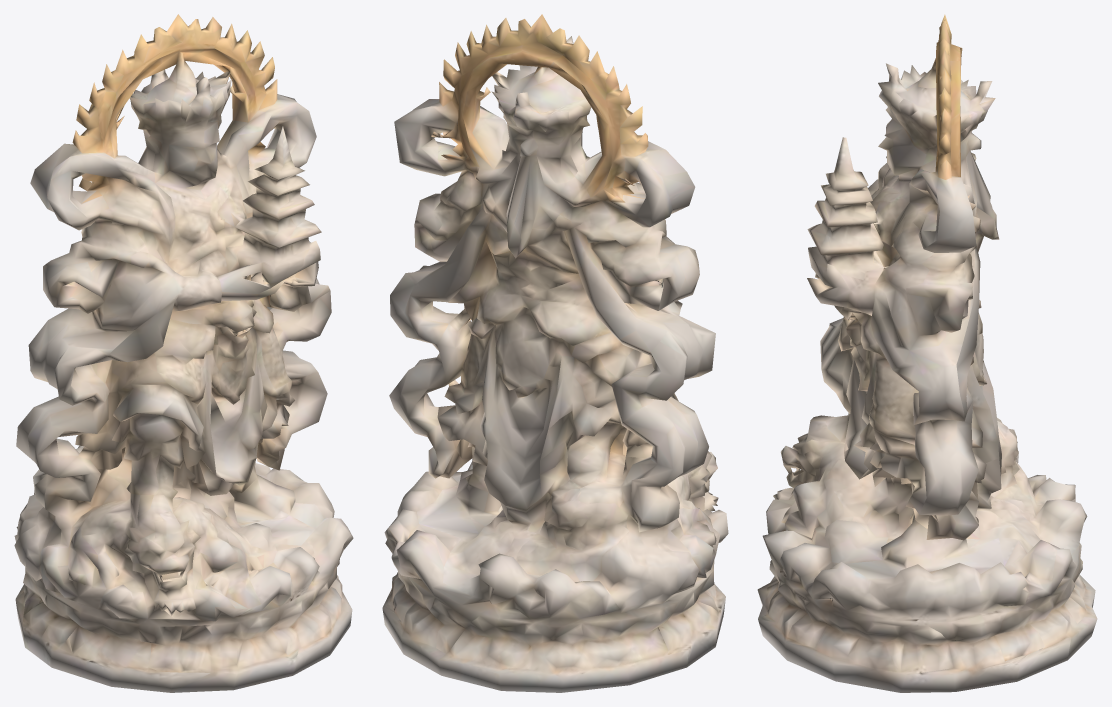
File: far.glb
3 renders of one model, left to right at view 1: azimuth 30°, elevation 25°; view 2: azimuth 150°, elevation 25°; view 3: azimuth 270°, elevation 25°, orthographic.
Visible parts, largest first — view 1: four-heavenly-kings-03; view 2: four-heavenly-kings-03; view 3: four-heavenly-kings-03.
Part boxes in pixels (bbox=[...]): four-heavenly-kings-03: bbox=[14, 14, 353, 692]; four-heavenly-kings-03: bbox=[382, 14, 728, 692]; four-heavenly-kings-03: bbox=[757, 14, 1097, 692].
Size of the model in its own units: 0.5117 by 0.9997 by 0.5097.
Materials: 1 (1 with a texture image).
